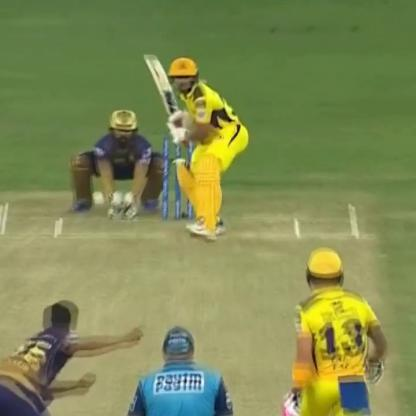ball: (87, 191, 105, 200), (93, 197, 106, 209)
bat: (136, 49, 202, 147)
pitch: (0, 194, 391, 415)
